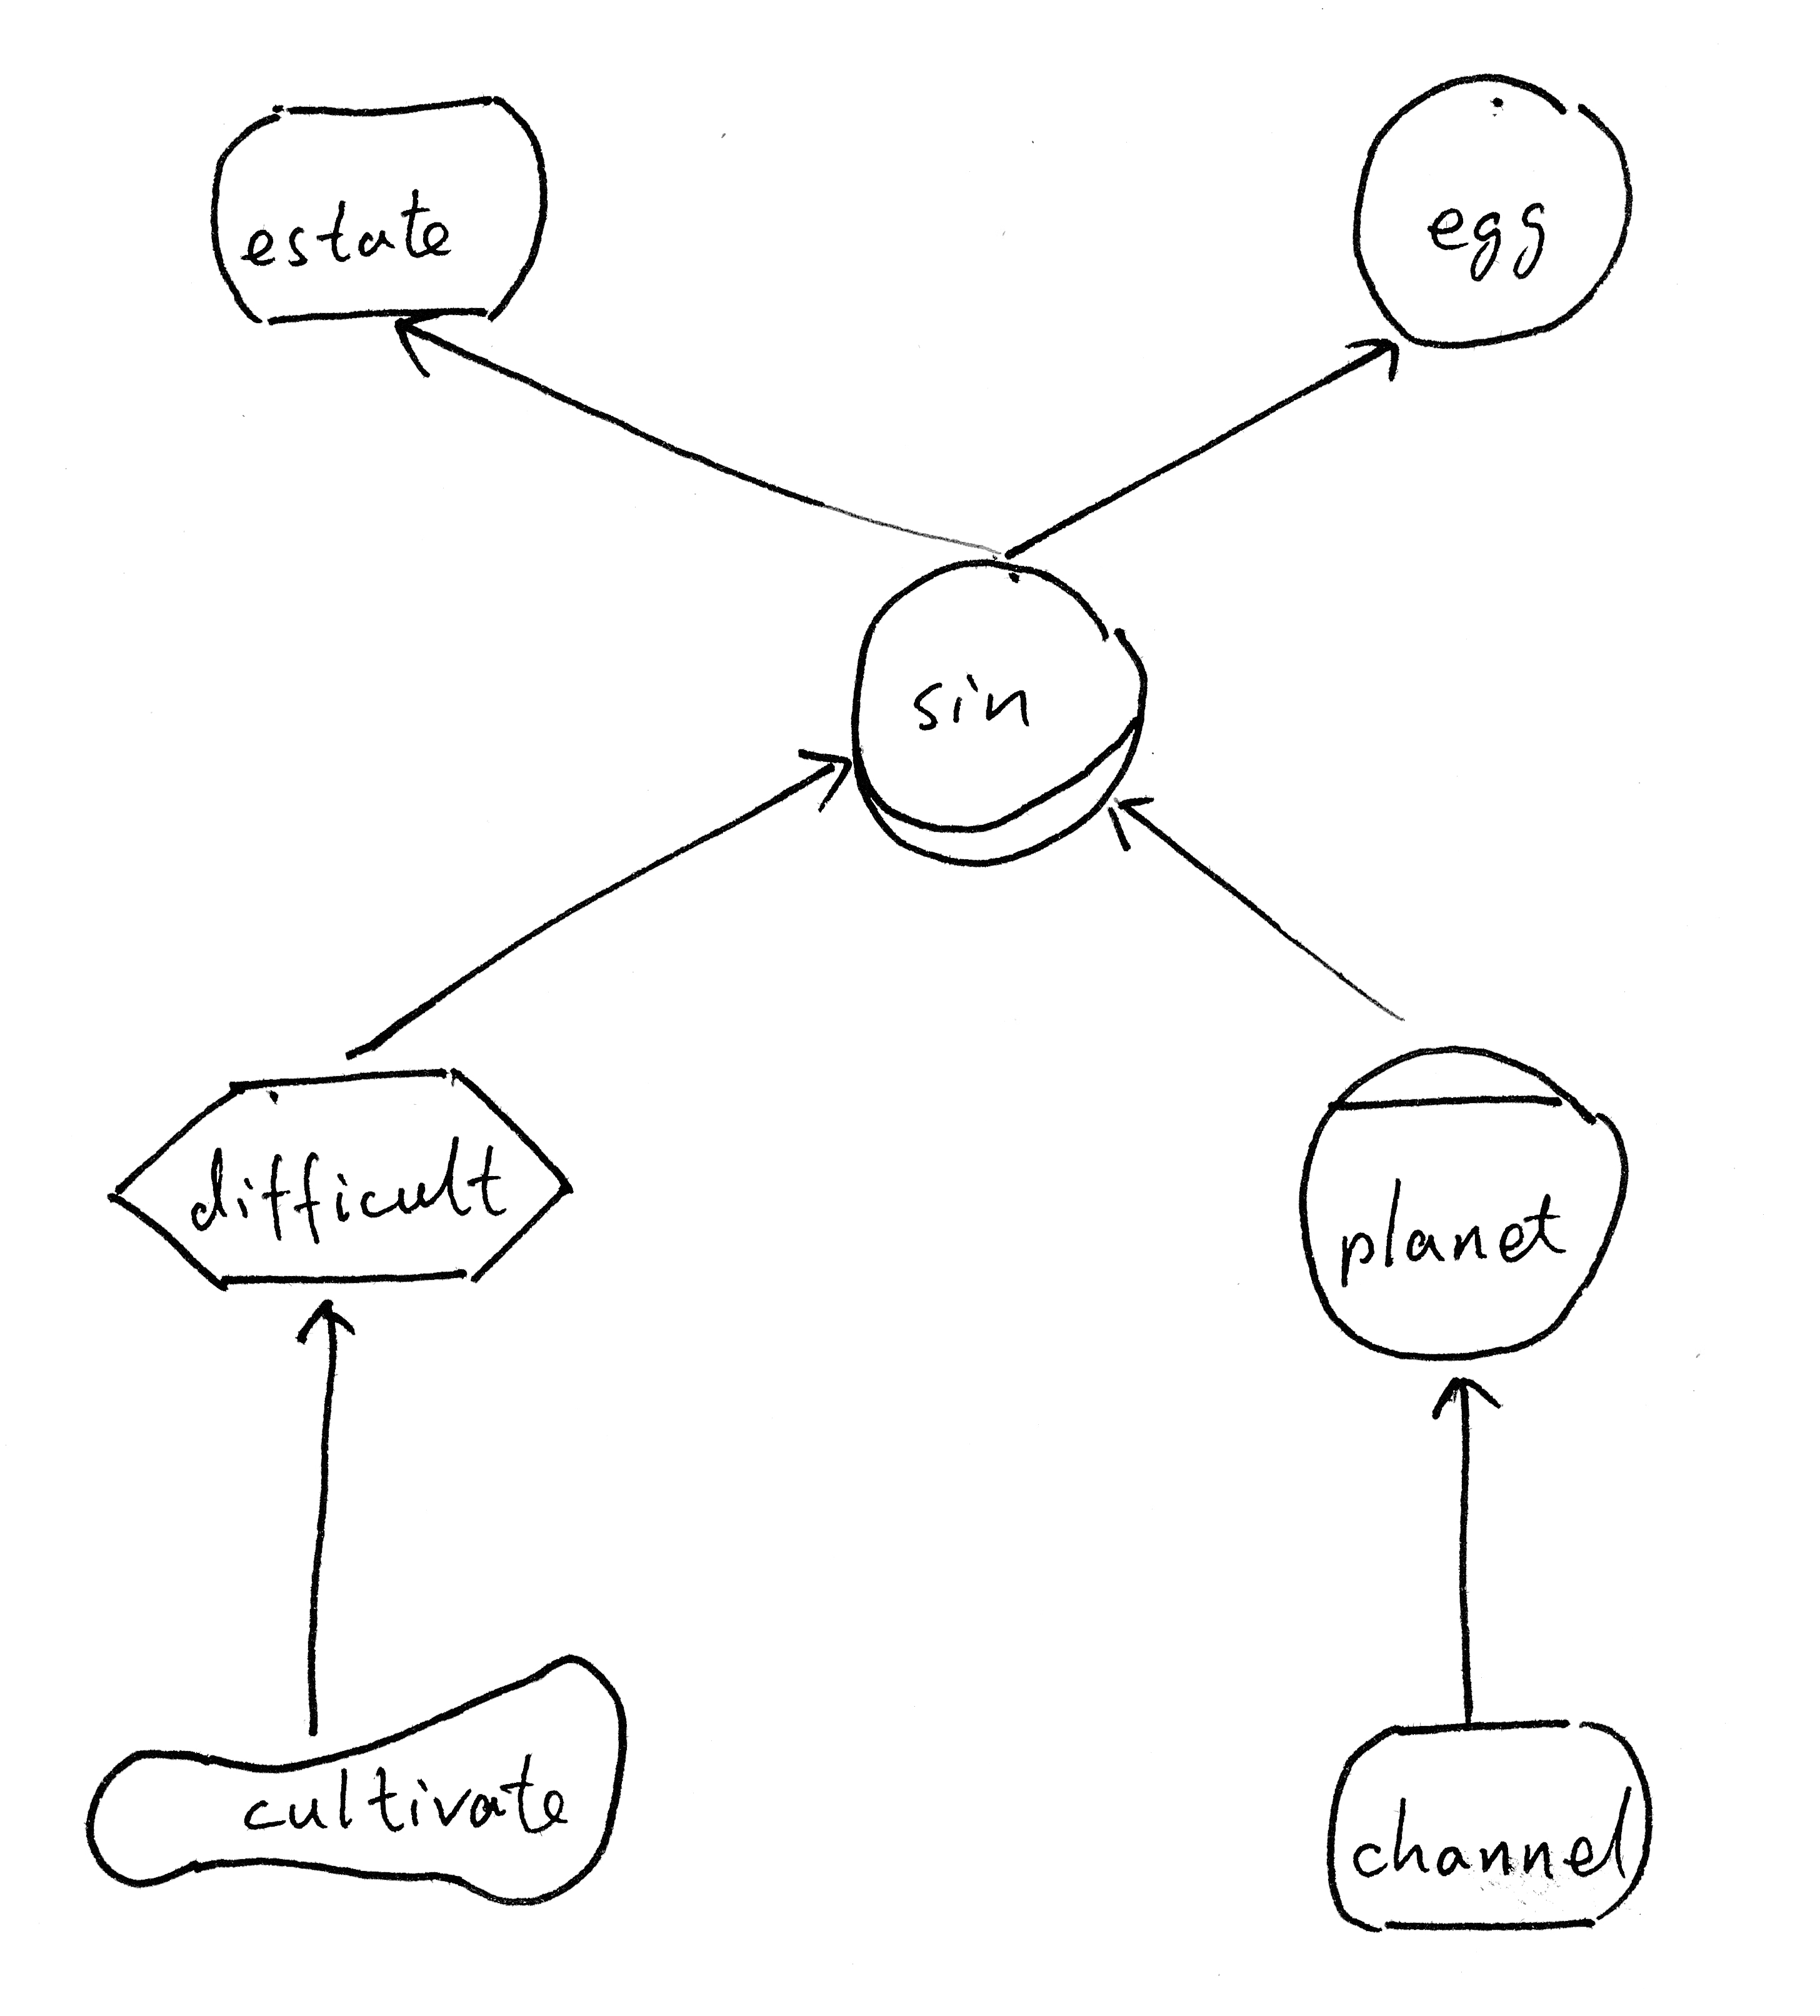actor: (1326, 56, 1664, 364)
agent: (1277, 1026, 1646, 1372)
arrow: (374, 299, 485, 395), (278, 1275, 379, 1361), (1332, 318, 1437, 400), (1089, 769, 1175, 868), (1419, 1356, 1506, 1442), (789, 729, 871, 818)
goal: (193, 79, 567, 353), (1305, 1702, 1679, 1955)
quality: (72, 1628, 648, 1923)
role: (829, 544, 1172, 885)
task: (83, 1048, 594, 1312)
